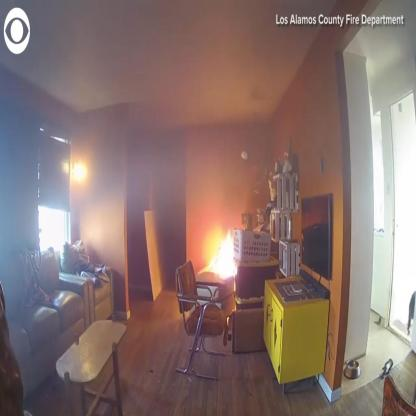fire: (206, 226, 240, 277)
